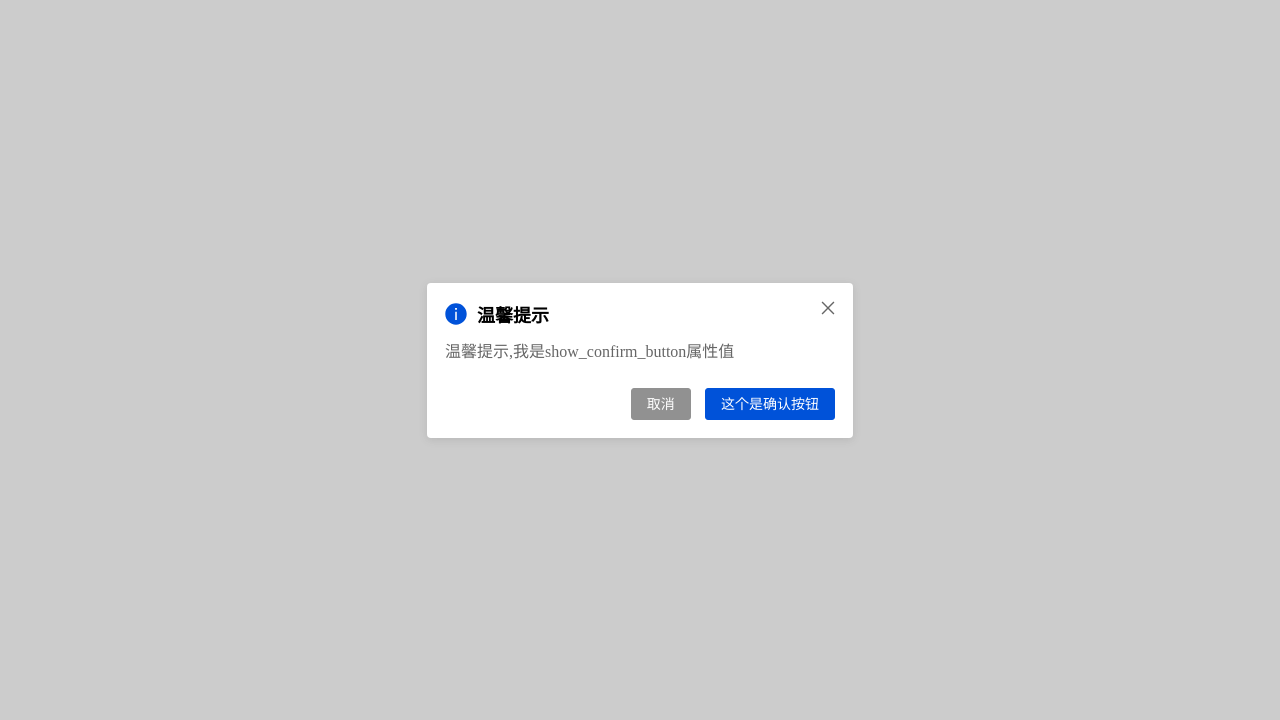
Test: MessageBox 组件测试 › 应该能渲染正常传入的布尔类型show_confirm_button属性值
Expected: the button "这个是确认按钮" is shown, [705,388,835,420]
Expected: the text "温馨提示,我是show_confirm_button属性值" is shown, [445,342,734,360]
// 关闭弹窗，测试show_confirm_button属性为false
What coordinates should you click on to do the following:
click the button with test id "messagebox_closeBtn"
I would click on:
 (828, 308)
Its box is [821,300,835,314].
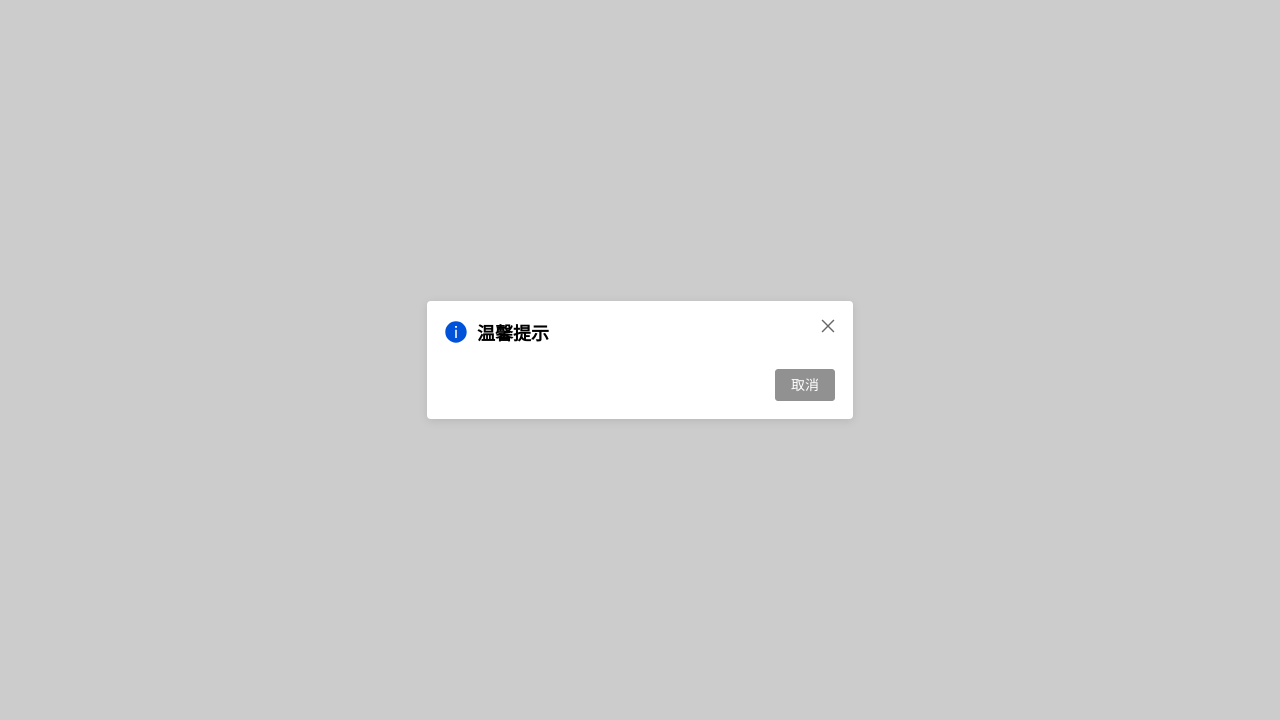
Expected: the button "这个是确认按钮" is gone
